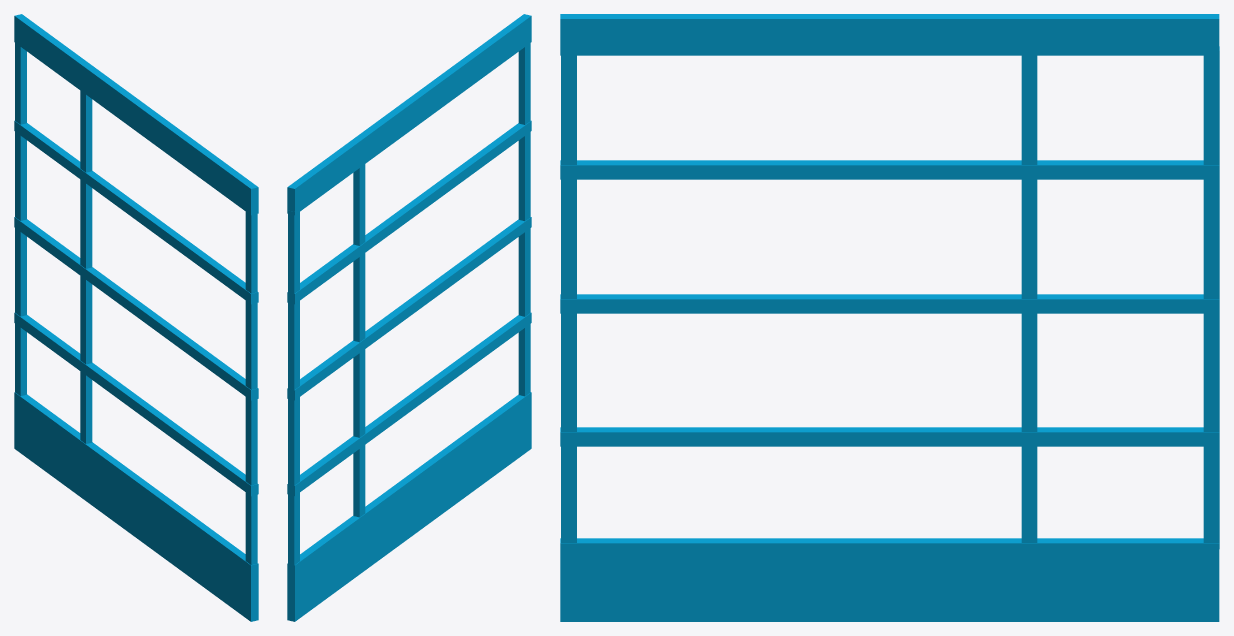
Rendered from Warehouse_Wall_S_01.fbx.
3 renders of one model, left to right at view 1: azimuth 30°, elevation 25°; view 2: azimuth 150°, elevation 25°; view 3: azimuth 270°, elevation 25°, orthographic. The views are drawn at different scales.
Visible parts, largest first — view 1: Warehouse_Wall_S_01; view 2: Warehouse_Wall_S_01; view 3: Warehouse_Wall_S_01.
Boxes of the visible parts, x1,y1,x2,y2 form: Warehouse_Wall_S_01: [14, 14, 258, 621]; Warehouse_Wall_S_01: [287, 14, 531, 621]; Warehouse_Wall_S_01: [560, 14, 1219, 621].
Size of the model in its own units: 9.28 by 516 by 512.
